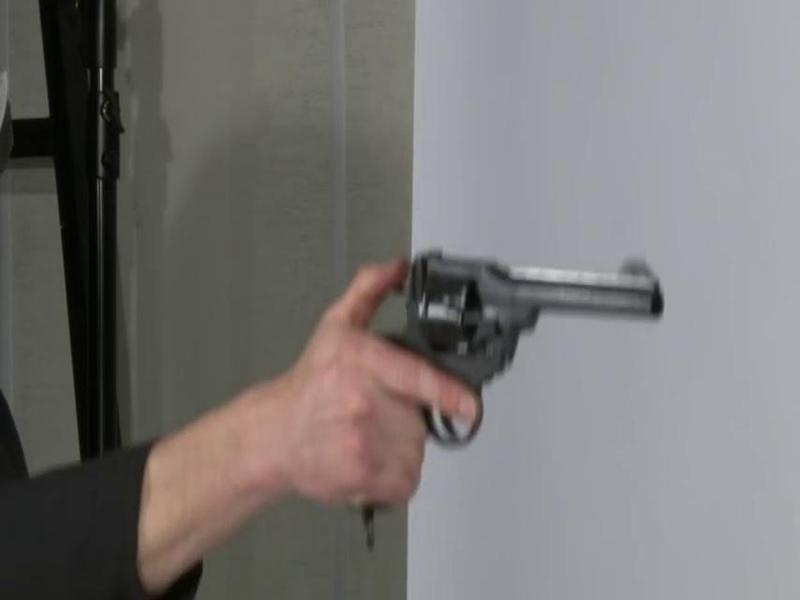Revolver: (372, 224, 677, 462)
